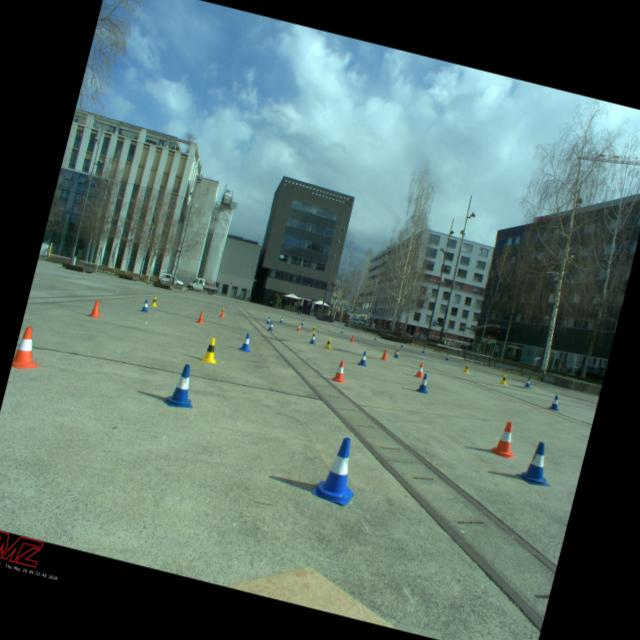blue_cone: (310, 432, 367, 508), (514, 438, 560, 488), (162, 360, 202, 411), (415, 372, 432, 394), (238, 332, 254, 352), (547, 393, 562, 411), (356, 349, 369, 366), (140, 298, 150, 312), (308, 332, 318, 344), (523, 377, 532, 388), (266, 320, 274, 331), (392, 348, 400, 358), (265, 316, 271, 324), (444, 354, 450, 361), (279, 316, 284, 323), (300, 320, 305, 326), (339, 327, 344, 333), (399, 341, 404, 347), (374, 334, 378, 340), (421, 348, 425, 353)
orange_cone: (11, 324, 49, 374), (488, 418, 523, 460), (330, 359, 350, 384), (86, 298, 105, 319), (413, 362, 427, 378), (194, 310, 206, 324), (380, 348, 390, 360), (218, 309, 226, 318), (295, 322, 302, 332), (349, 334, 355, 342)
yellow_cone: (200, 335, 222, 365), (498, 372, 508, 386), (323, 336, 333, 349), (462, 362, 471, 373), (150, 296, 159, 306), (393, 345, 400, 355), (219, 307, 226, 316), (310, 324, 317, 332)
